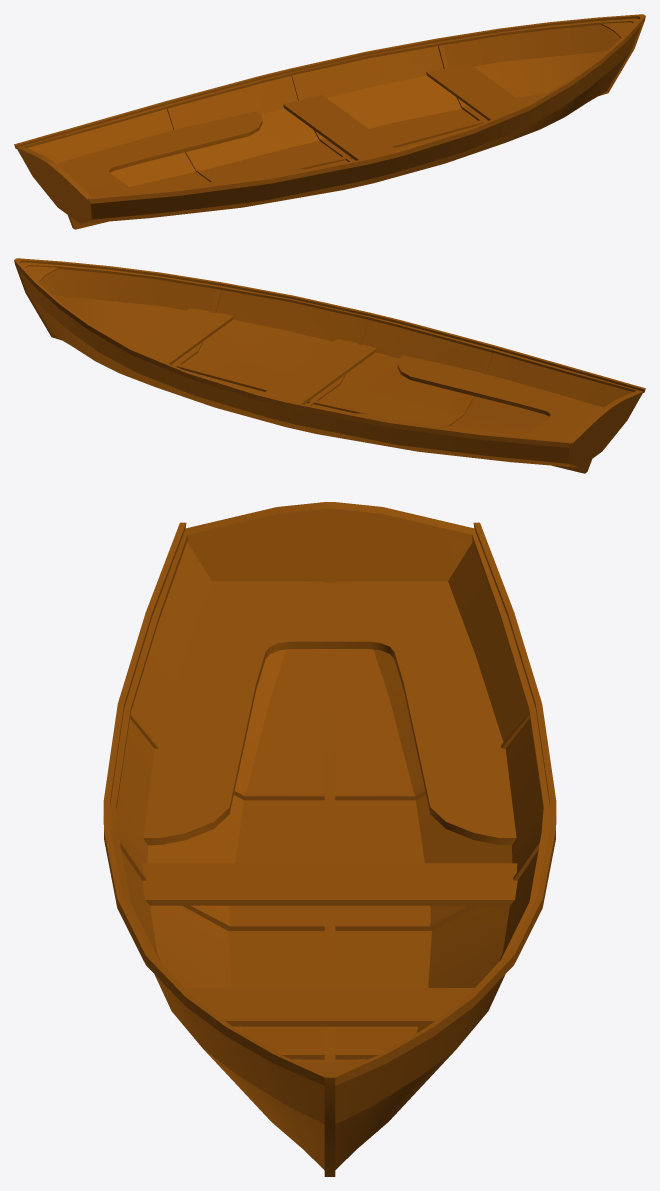
File: bote1.obj
The picture shows the model from 3 angles, top to bottom: view 1: azimuth 30°, elevation 25°; view 2: azimuth 150°, elevation 25°; view 3: azimuth 270°, elevation 25°; orthographic projection. The views are drawn at different scales.
Visible parts, largest first — view 1: boat_v3_Cube.005; view 2: boat_v3_Cube.005; view 3: boat_v3_Cube.005.
Boxes of the visible parts, x1,y1,x2,y2 form: boat_v3_Cube.005: (14, 14, 645, 229); boat_v3_Cube.005: (14, 258, 645, 473); boat_v3_Cube.005: (103, 502, 556, 1176).
Size of the model in its own units: 4.7 by 0.5894 by 1.55.
